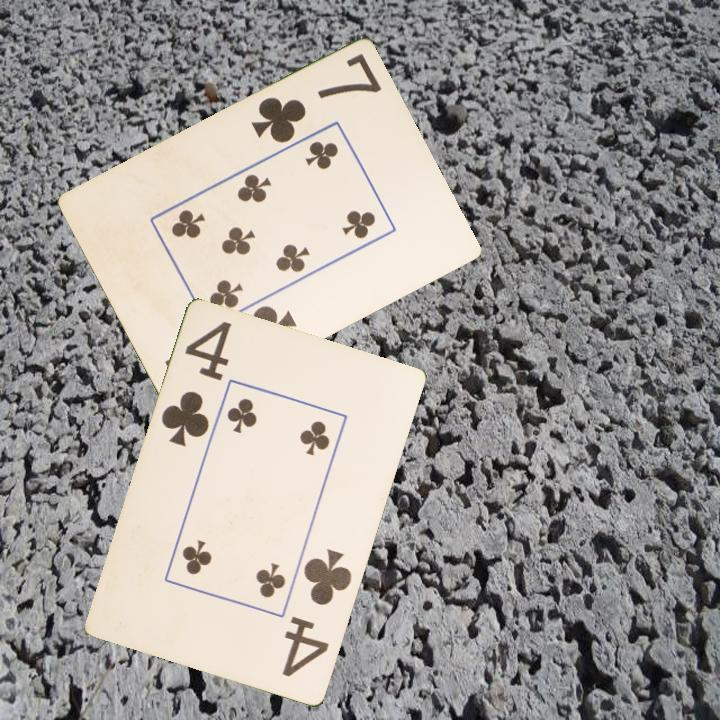4c: (279, 546, 355, 681), (158, 318, 235, 451)
7c: (247, 50, 385, 147)
